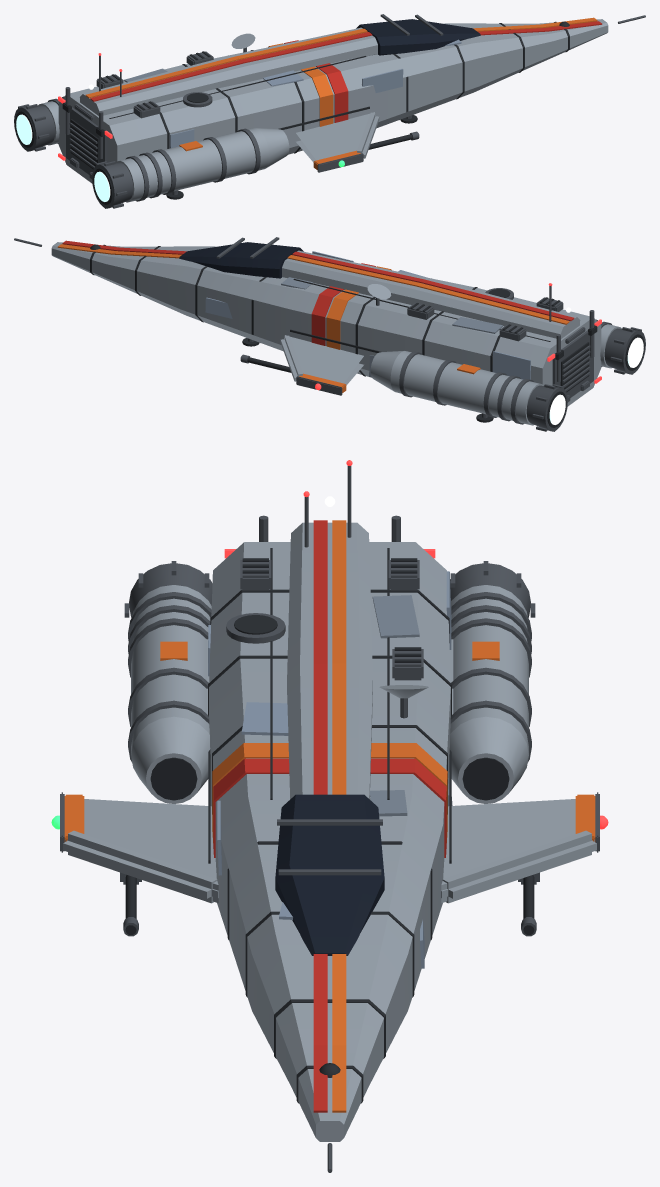
The model's file is runner.glb.
The picture shows the model from 3 angles, top to bottom: view 1: azimuth 30°, elevation 25°; view 2: azimuth 150°, elevation 25°; view 3: azimuth 270°, elevation 25°; orthographic projection. The views are drawn at different scales.
Visible parts, largest first — view 1: runner_runner_hull, runner_runner_steel, runner_runner_seam, runner_runner_orange, runner_runner_red, runner_runner_glass, runner_runner_patch_a, runner_runner_glow; view 2: runner_runner_hull, runner_runner_steel, runner_runner_seam, runner_runner_orange, runner_runner_red, runner_runner_glass, runner_runner_patch_a, runner_runner_patch_b, runner_runner_glow; view 3: runner_runner_hull, runner_runner_steel, runner_runner_glass, runner_runner_seam, runner_runner_orange, runner_runner_red, runner_runner_patch_b, runner_runner_patch_a.
Boxes of the visible parts, x1,y1,x2,y2 form: runner_runner_hull: [38, 19, 608, 202]; runner_runner_steel: [14, 14, 645, 208]; runner_runner_seam: [15, 21, 569, 204]; runner_runner_orange: [85, 17, 597, 169]; runner_runner_red: [90, 21, 602, 122]; runner_runner_glass: [356, 19, 480, 55]; runner_runner_patch_a: [170, 39, 461, 148]; runner_runner_glow: [16, 114, 110, 201]; runner_runner_hull: [51, 242, 621, 425]; runner_runner_steel: [14, 237, 645, 431]; runner_runner_seam: [90, 244, 644, 427]; runner_runner_orange: [57, 244, 569, 392]; runner_runner_red: [62, 240, 574, 345]; runner_runner_glass: [179, 242, 303, 278]; runner_runner_patch_a: [205, 251, 530, 379]; runner_runner_patch_b: [281, 277, 502, 377]; runner_runner_glow: [549, 337, 643, 424]; runner_runner_hull: [63, 522, 596, 1141]; runner_runner_steel: [60, 466, 599, 1172]; runner_runner_glass: [275, 794, 384, 955]; runner_runner_seam: [125, 548, 534, 1103]; runner_runner_orange: [64, 520, 595, 1112]; runner_runner_red: [213, 520, 446, 1112]; runner_runner_patch_b: [370, 595, 452, 816]; runner_runner_patch_a: [208, 571, 451, 968].
Bounding box in the file's own units: 17.24 × 3.89 × 7.14.
